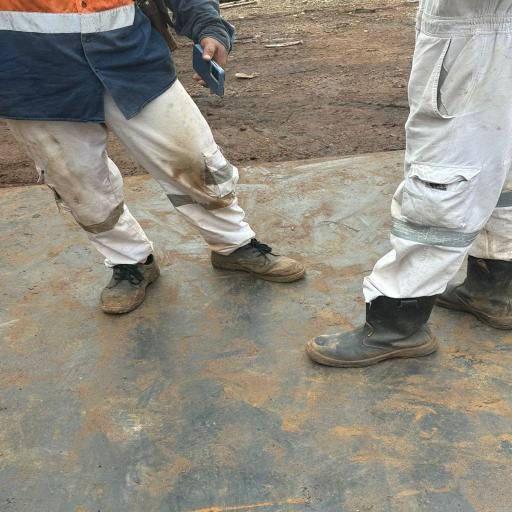safety_shoe: (305, 289, 434, 363), (437, 254, 512, 330), (84, 250, 164, 315), (200, 233, 305, 282)
